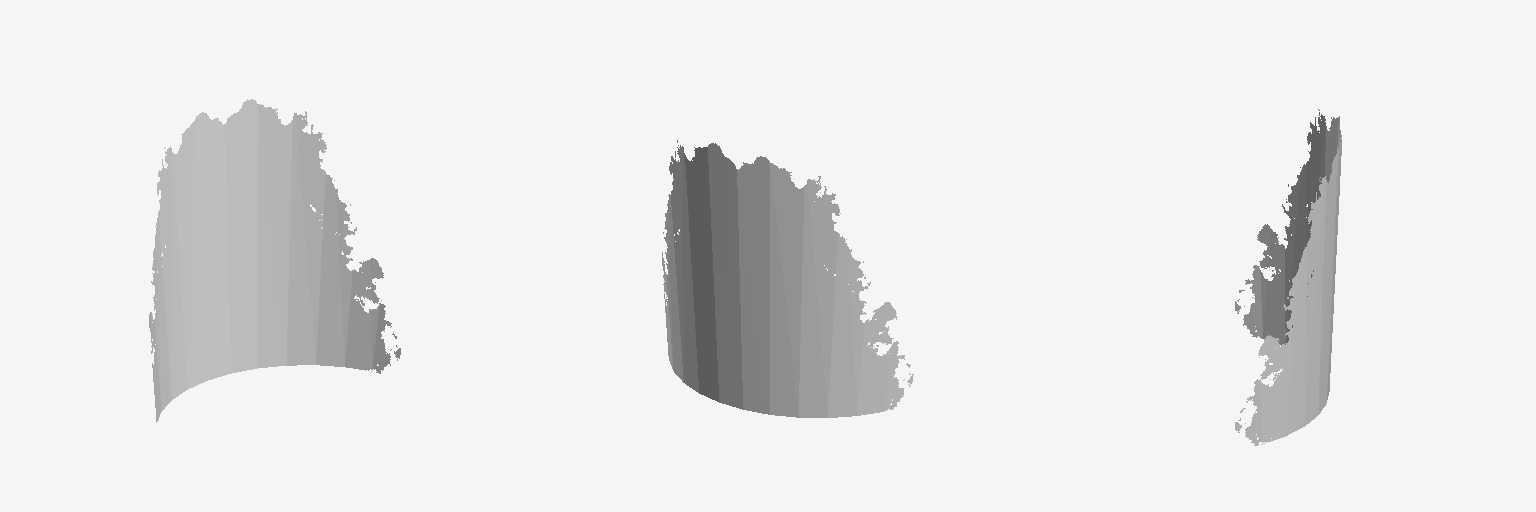
3 views of the same model, side by side, from view 1: azimuth 30°, elevation 25°; view 2: azimuth 150°, elevation 25°; view 3: azimuth 270°, elevation 25° (orthographic).
Parts seen in each view (by area): view 1: 円柱.001; view 2: 円柱.001; view 3: 円柱.001.
Boxes of the visible parts, box(x1,y1,x2,y2) form: 円柱.001: box(149, 99, 400, 421); 円柱.001: box(662, 140, 913, 417); 円柱.001: box(1235, 109, 1341, 445).
Bounding box in the file's own units: 1.14 × 1 × 0.4229.
1 materials, 1 textured.